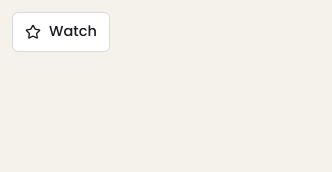
Test case: toggles the pin with an accessible pressed state
Click the button with aria-label "Watch R. Mitchell" at (61, 32), box [12,12,110,52]
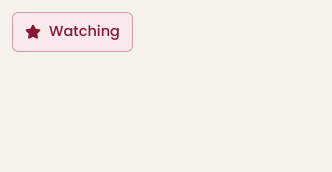
Result: the button with aria-label "Stop watching R. Mitchell" is pressed
Click the button with aria-label "Stop watching R. Mitchell" at (72, 32), box [12,12,133,52]
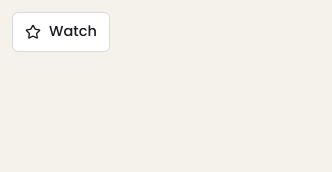
Result: the button with aria-label "Watch R. Mitchell" is shown at [12,12,110,52]
